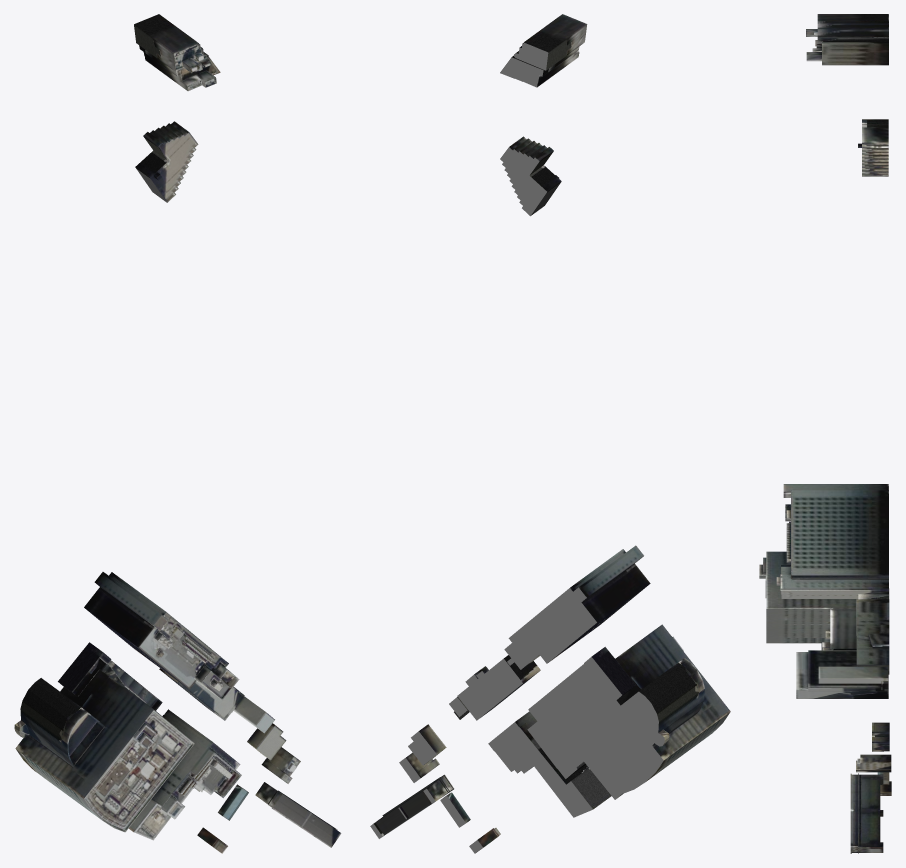
The model's file is 533946124_bldg_6677.obj.
3 renders of one model, left to right at view 1: azimuth 30°, elevation 25°; view 2: azimuth 150°, elevation 25°; view 3: azimuth 270°, elevation 25°, orthographic. The views are drawn at different scales.
Bounding box in the file's own units: 143 × 381 × 59.73.
Materials: 13 (13 with a texture image).
